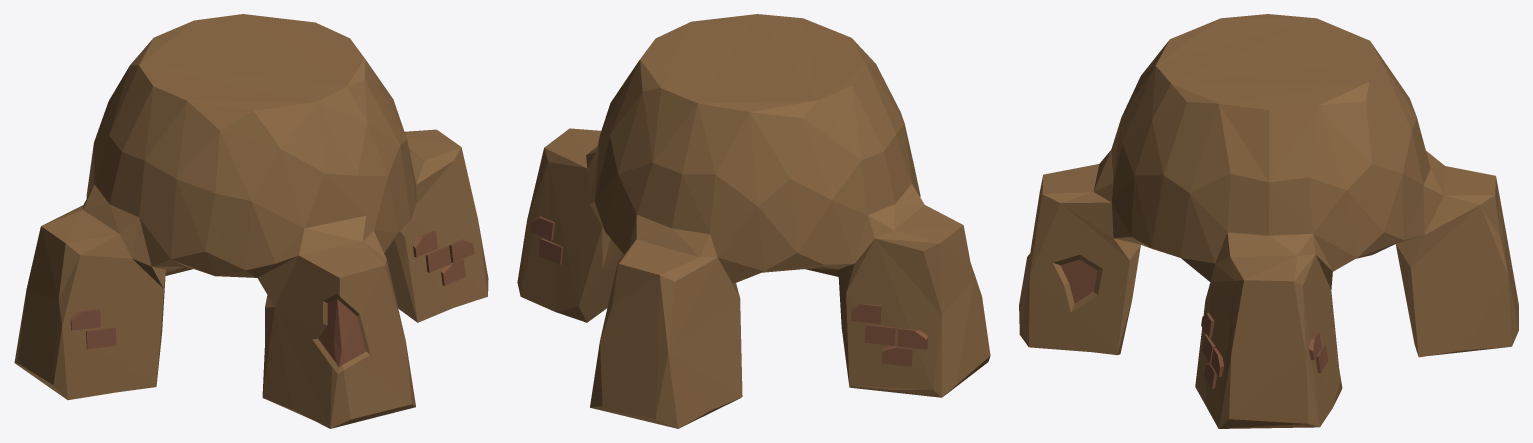
File: LPWarPack_ClayStructure1.fbx
3 views of the same model, side by side, from view 1: azimuth 30°, elevation 25°; view 2: azimuth 150°, elevation 25°; view 3: azimuth 270°, elevation 25° (orthographic).
Visible parts, largest first — view 1: ClayStructure1; view 2: ClayStructure1; view 3: ClayStructure1.
Boxes of the visible parts, left/top/right/bottom form: ClayStructure1: left=14, top=14, right=488, bottom=428; ClayStructure1: left=517, top=14, right=990, bottom=428; ClayStructure1: left=1019, top=14, right=1518, bottom=428.
Bounding box in the file's own units: 1108 × 655 × 1110.
